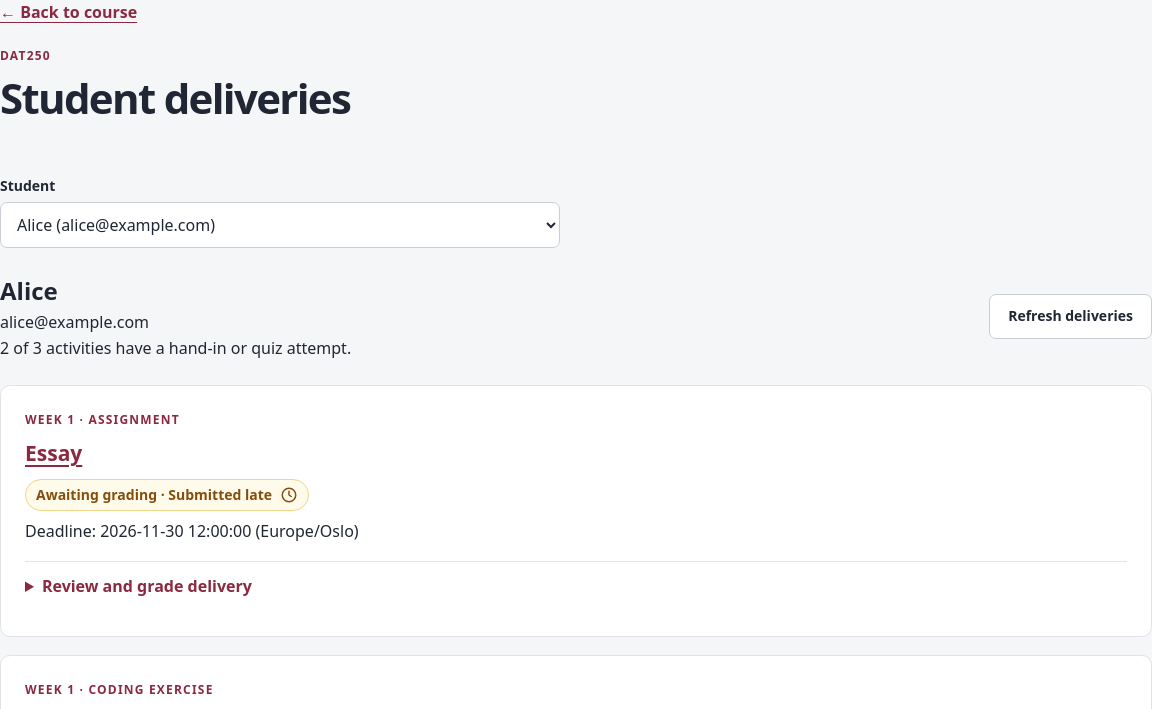
it: Student deliveries › switches students without showing the previous student’s deliveries
Check: the heading "Alice" is shown, box x1=0 y1=274 x2=58 y2=307
Select "Bob (bob@example.com)" in the dropdown labelled "Student": (280,225) x1=0 y1=202 x2=560 y2=248
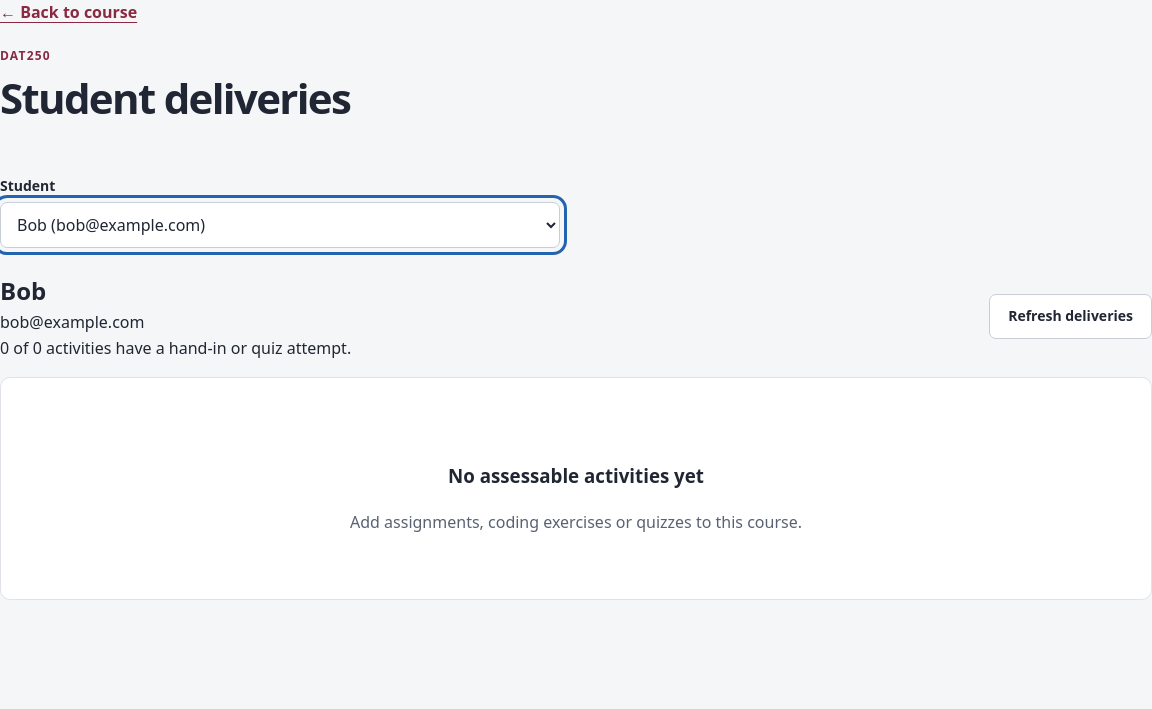
Check: the heading "Bob" is shown, box x1=0 y1=274 x2=46 y2=307
Check: the heading "No assessable activities yet" is shown, box x1=448 y1=463 x2=704 y2=488
